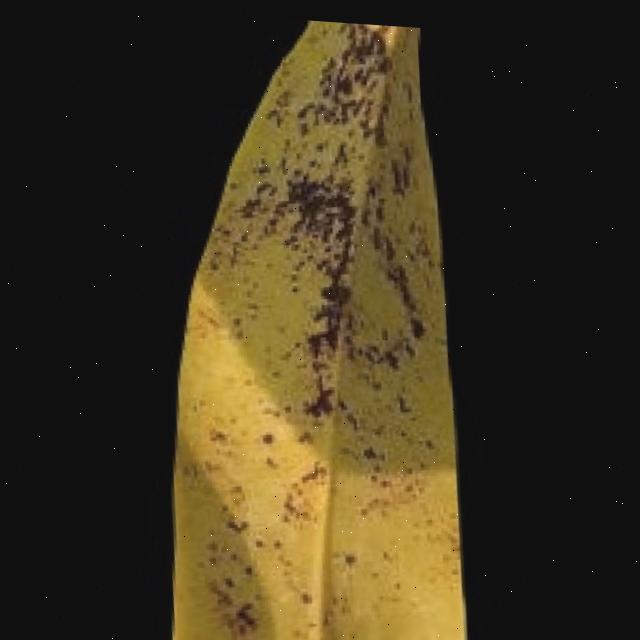mite: (239, 554, 276, 630), (244, 592, 270, 623), (353, 541, 369, 560), (269, 423, 284, 439), (308, 583, 324, 598), (231, 568, 246, 583), (254, 557, 266, 573)
